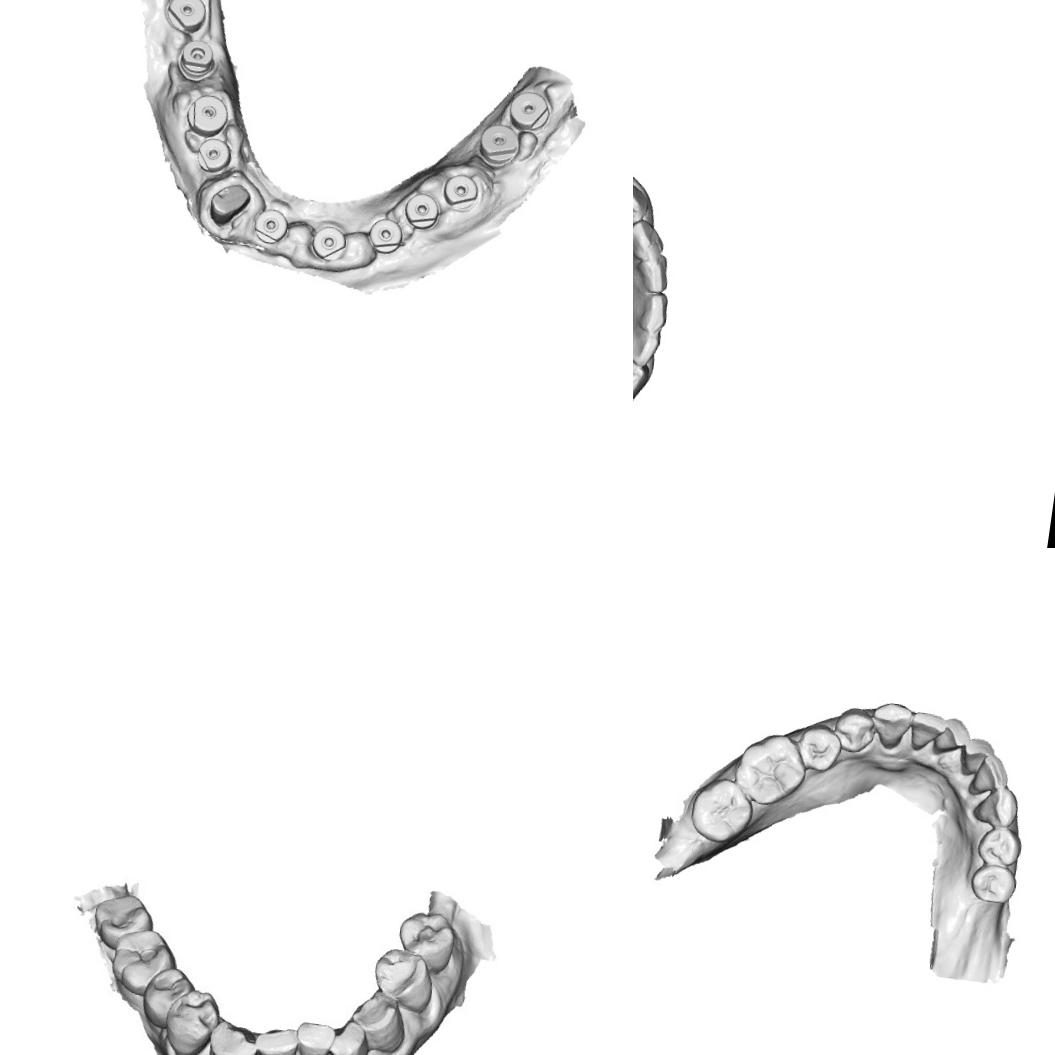canine: (352, 988, 410, 1052), (867, 698, 915, 754), (968, 782, 1024, 830), (200, 1019, 260, 1055), (633, 344, 651, 410), (633, 174, 651, 235)
crown: (200, 174, 256, 233)
implant: (184, 92, 234, 142), (476, 119, 526, 167), (505, 86, 552, 136), (306, 220, 352, 267), (192, 134, 236, 180), (438, 168, 484, 212), (175, 34, 218, 81), (366, 217, 411, 260), (401, 192, 444, 236), (248, 206, 292, 249), (167, 0, 210, 31)
incisor: (633, 249, 676, 301), (904, 708, 949, 755), (968, 751, 1012, 798), (633, 213, 669, 270), (633, 286, 673, 337), (633, 311, 668, 369), (930, 714, 974, 760), (956, 734, 996, 778), (291, 1020, 338, 1055), (331, 1016, 372, 1055), (254, 1026, 298, 1055)
molar: (729, 726, 812, 811), (686, 773, 758, 848), (110, 927, 177, 996), (393, 910, 463, 972), (372, 948, 438, 1012), (93, 888, 155, 956)
premolar: (162, 986, 219, 1055), (139, 966, 198, 1028), (794, 720, 844, 776), (829, 703, 879, 757), (972, 823, 1026, 871), (966, 861, 1020, 907)
